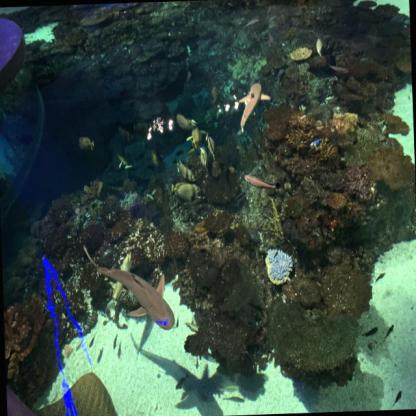fish: (242, 172, 277, 193), (170, 180, 201, 203), (175, 157, 196, 182), (175, 111, 197, 133), (186, 124, 203, 150), (204, 132, 217, 163), (197, 144, 209, 172), (76, 134, 94, 152), (313, 35, 325, 59), (149, 149, 162, 168), (208, 84, 219, 106), (150, 186, 158, 196), (186, 70, 192, 82), (124, 163, 135, 169), (118, 158, 122, 168)
shark: (80, 238, 178, 336), (235, 80, 272, 134)
